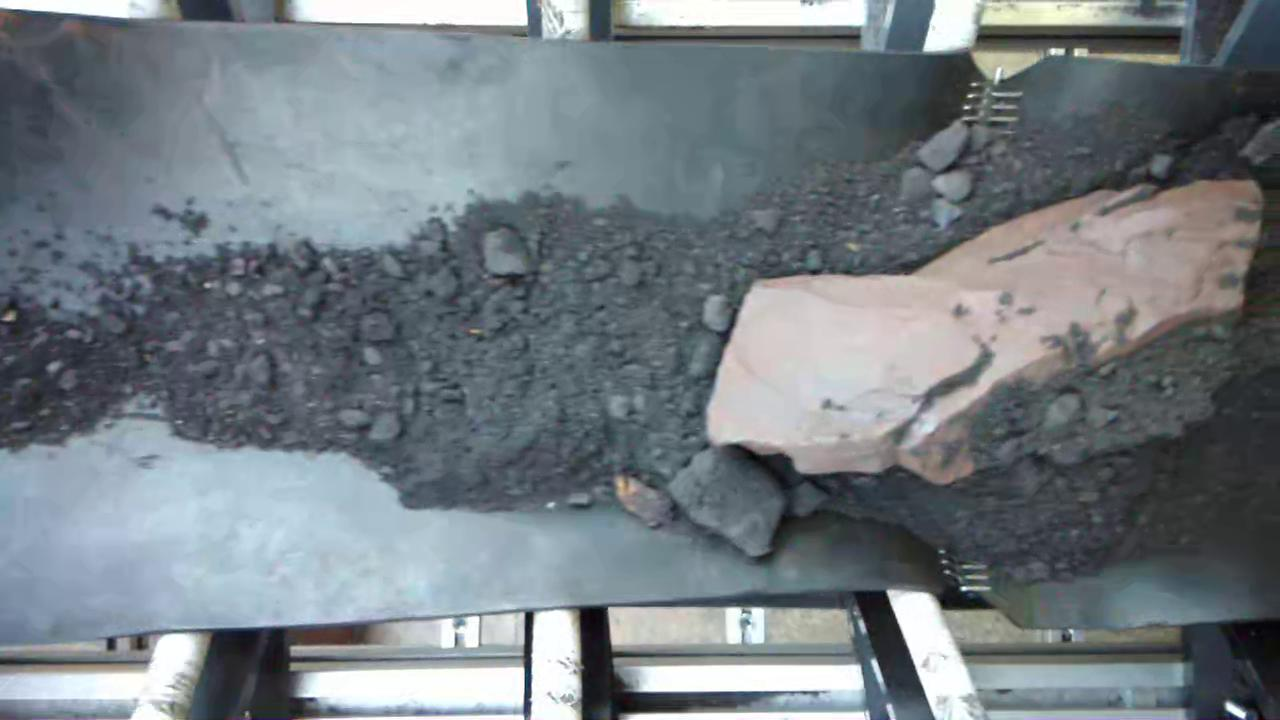conveyor: (3, 68, 1280, 613)
